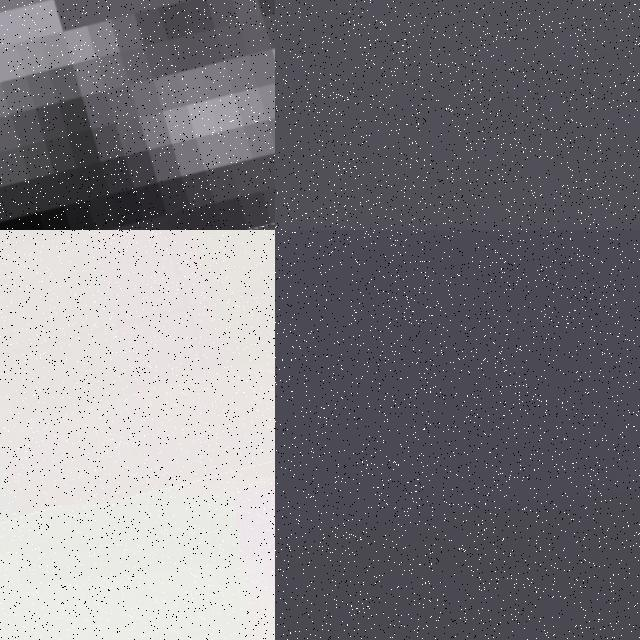0: (0, 0, 275, 230)
drone: (0, 230, 275, 529)
